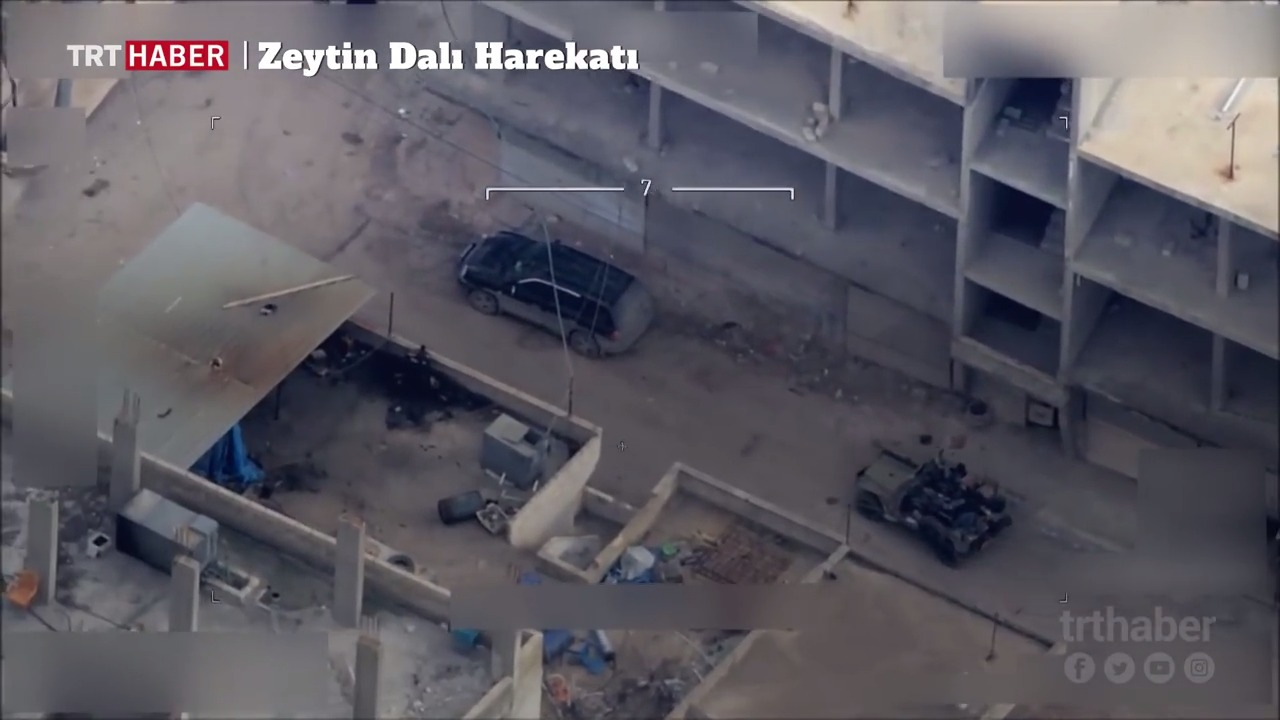arac: (444, 227, 682, 367), (846, 442, 1040, 558)
